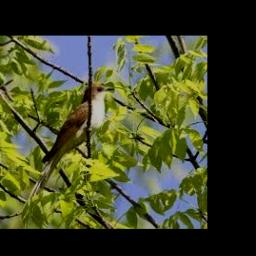Cuckoo: (27, 83, 114, 203)
